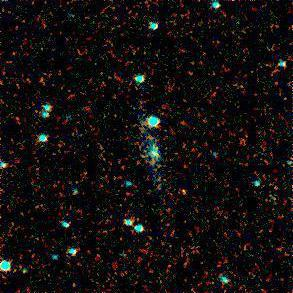star: (168, 172, 198, 202)
